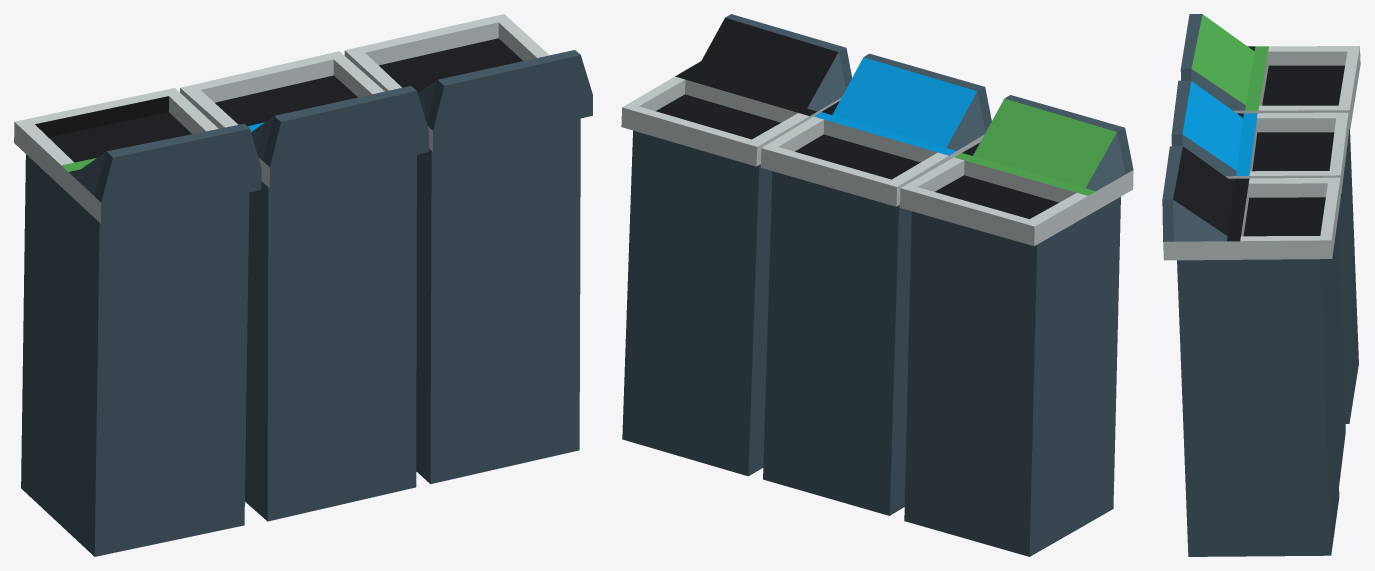
File: Bins-transformed.glb
3 views of the same model, side by side, from view 1: azimuth 30°, elevation 25°; view 2: azimuth 150°, elevation 25°; view 3: azimuth 270°, elevation 25° (orthographic). The views are drawn at different scales.
Parts seen in each view (by area): view 1: group529117512; view 2: group529117512; view 3: group529117512.
Boxes of the visible parts, x1=… form: group529117512: x1=14, y1=14, x2=592, y2=556; group529117512: x1=621, y1=14, x2=1133, y2=556; group529117512: x1=1162, y1=14, x2=1360, y2=556.
Size of the model in its own units: 1.88 by 1.53 by 0.7753.
1 material, 1 textured.
